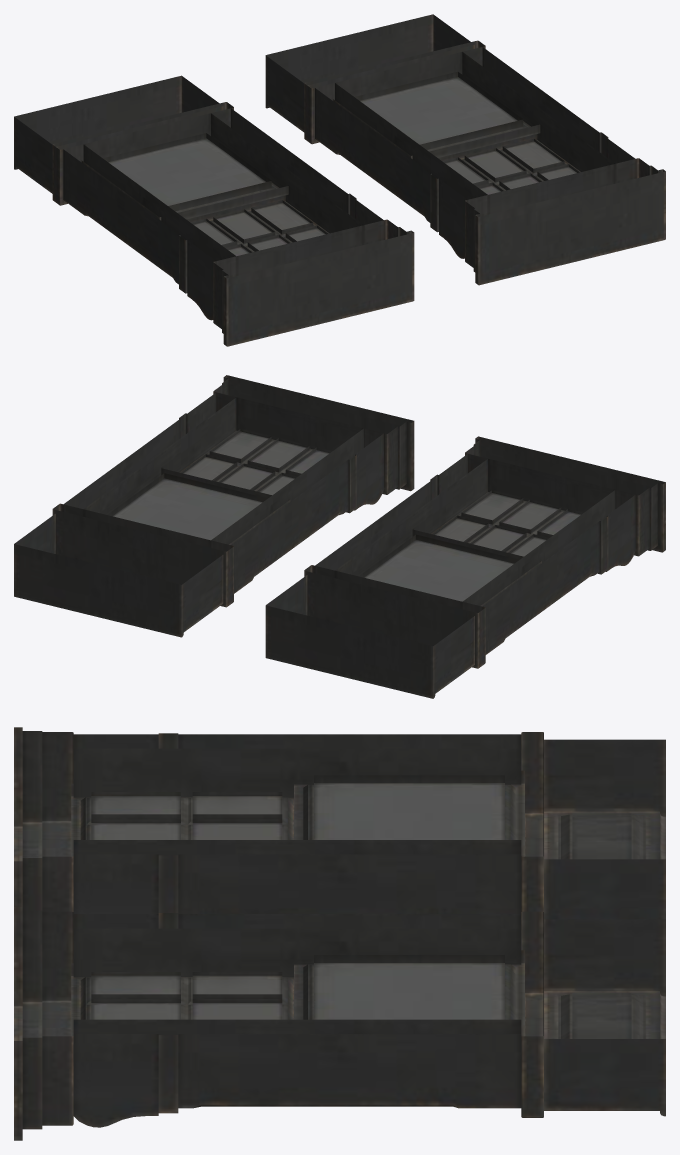
Rendered from window_centered_double_01.gltf.
3 renders of one model, top to bottom at view 1: azimuth 30°, elevation 25°; view 2: azimuth 150°, elevation 25°; view 3: azimuth 270°, elevation 25°, orthographic. The views are drawn at different scales.
Visible parts, largest first — view 1: window_centered_double_01; view 2: window_centered_double_01; view 3: window_centered_double_01.
Part boxes in pixels (x1,y1,x2,y2): window_centered_double_01: [14, 14, 665, 346]; window_centered_double_01: [14, 375, 665, 698]; window_centered_double_01: [14, 727, 665, 1140].
Size of the model in its own units: 2.62 by 0.39 by 2.3.
Materials: 2 (2 with a texture image).
